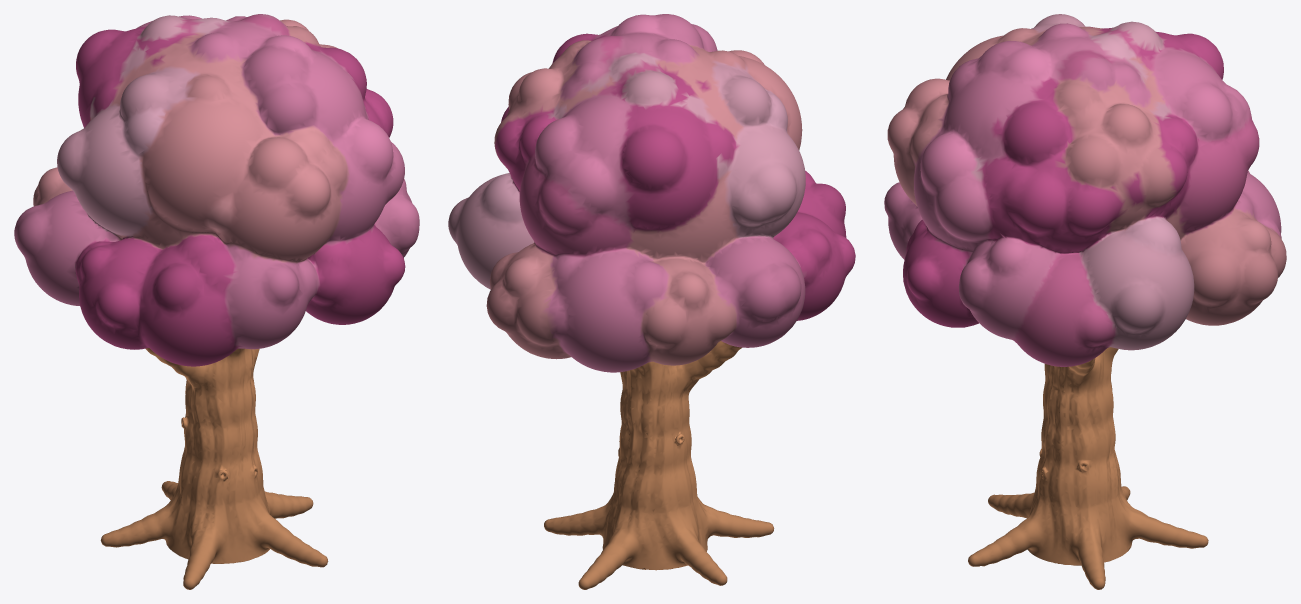
Rendered from arvore_rosa.glb.
The picture shows the model from 3 angles, left to right: view 1: azimuth 30°, elevation 25°; view 2: azimuth 150°, elevation 25°; view 3: azimuth 270°, elevation 25°; orthographic projection.
Parts seen in each view (by area): view 1: copa, tronco; view 2: copa, tronco; view 3: copa, tronco.
Part boxes in pixels (x1,y1,x2,y2): copa: (14, 14, 419, 366); tronco: (100, 348, 328, 589); copa: (448, 14, 855, 372); tronco: (544, 341, 774, 589); copa: (884, 14, 1286, 366); tronco: (968, 347, 1208, 589).
Bounding box in the file's own units: 3.75 × 5.24 × 3.73.
